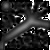node: (2, 2, 10, 10)
